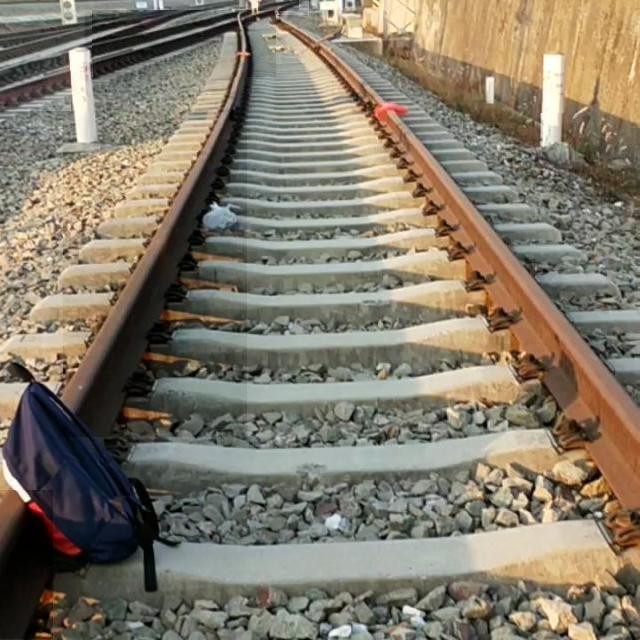rail: (380, 114, 640, 512), (65, 58, 248, 438), (1, 1, 239, 63), (93, 12, 277, 78), (275, 11, 386, 112), (1, 492, 54, 640), (87, 13, 240, 58), (1, 72, 72, 112), (1, 49, 71, 88), (238, 11, 250, 53), (278, 1, 310, 16), (260, 1, 300, 12)
